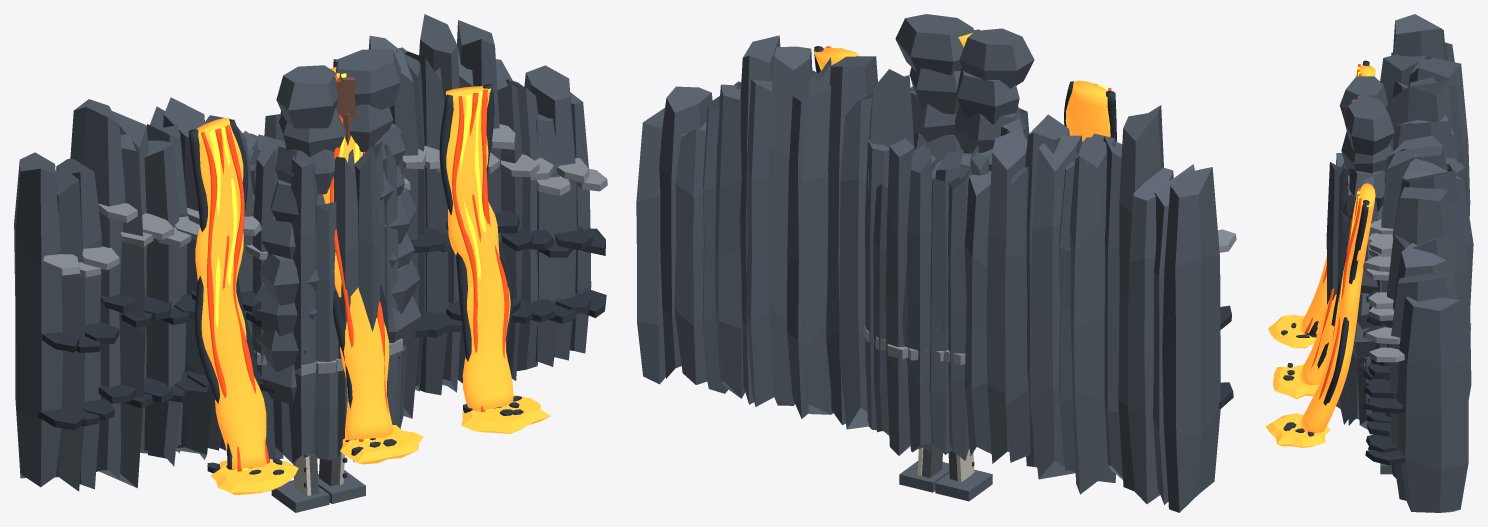
File: cindercoil-hero-kit.glb
3 renders of one model, left to right at view 1: azimuth 30°, elevation 25°; view 2: azimuth 150°, elevation 25°; view 3: azimuth 270°, elevation 25°, orthographic. The views are drawn at different scales.
Parts seen in each view (by area): view 1: rupture_wall__Basalt, hollow_tower__Basalt, rupture_wall__Blackglass, rupture_left__Basalt, cascade_0__Lava, cascade_2__Lava, rupture_right__Basalt, rupture_wall__Ash, cascade_1__Lava, cascade_0__Lava.002, cascade_0__Blackglass, cascade_2__Blackglass (+9 smaller); view 2: rupture_wall__Basalt, hollow_tower__Basalt, rupture_right__Basalt, rupture_left__Basalt, cascade_0__Lava, broken_launch_pylon__Basalt, hollow_tower__Ash, broken_launch_pylon__Ceramic.001; view 3: rupture_wall__Basalt, rupture_right__Basalt, cascade_2__Lava, hollow_tower__Basalt, rupture_wall__Blackglass, rupture_wall__Ash, cascade_1__Lava, cascade_0__Lava, cascade_2__Blackglass, rupture_left__Basalt, cascade_2__Lava.002, cascade_1__Blackglass (+1 smaller).
Part boxes in pixels (box(x1,y1,x2,y2)): rupture_wall__Basalt: box(14, 14, 591, 491); hollow_tower__Basalt: box(243, 111, 406, 465); rupture_wall__Blackglass: box(38, 210, 606, 430); rupture_left__Basalt: box(251, 65, 346, 403); cascade_0__Lava: box(195, 118, 298, 494); cascade_2__Lava: box(445, 86, 550, 433); rupture_right__Basalt: box(335, 49, 421, 360); rupture_wall__Ash: box(42, 124, 607, 277); cascade_1__Lava: box(323, 67, 423, 464); cascade_0__Lava.002: box(201, 125, 269, 471); cascade_0__Blackglass: box(188, 119, 283, 474); cascade_2__Blackglass: box(439, 84, 523, 415); rupture_wall__Basalt: box(636, 35, 1220, 512); hollow_tower__Basalt: box(865, 88, 1029, 460); rupture_right__Basalt: box(895, 14, 974, 162); rupture_left__Basalt: box(953, 28, 1034, 153); cascade_0__Lava: box(1065, 80, 1110, 142); broken_launch_pylon__Basalt: box(899, 461, 992, 501); hollow_tower__Ash: box(864, 326, 965, 364); broken_launch_pylon__Ceramic.001: box(922, 443, 957, 480); rupture_wall__Basalt: box(1380, 14, 1473, 512); rupture_right__Basalt: box(1340, 94, 1394, 369); cascade_2__Lava: box(1265, 183, 1375, 447); hollow_tower__Basalt: box(1326, 137, 1467, 429); rupture_wall__Blackglass: box(1362, 291, 1405, 465); rupture_wall__Ash: box(1363, 219, 1404, 362); cascade_1__Lava: box(1273, 294, 1336, 399); cascade_0__Lava: box(1268, 65, 1375, 348); cascade_2__Blackglass: box(1283, 200, 1369, 436); rupture_left__Basalt: box(1339, 76, 1388, 120); cascade_2__Lava.002: box(1304, 188, 1361, 431); cascade_1__Blackglass: box(1283, 281, 1340, 380).
Size of the model in its own units: 464 by 350 by 182.
